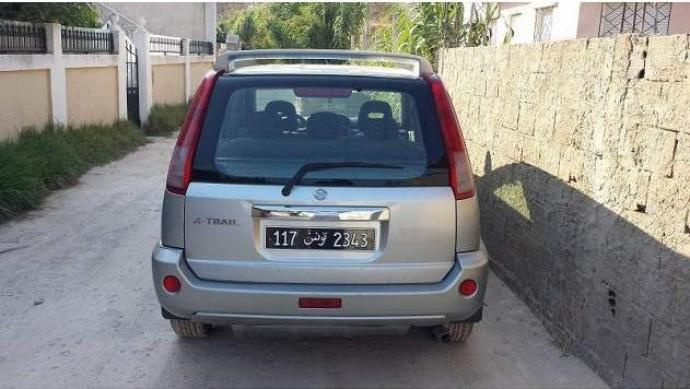LP: (264, 225, 377, 252)
